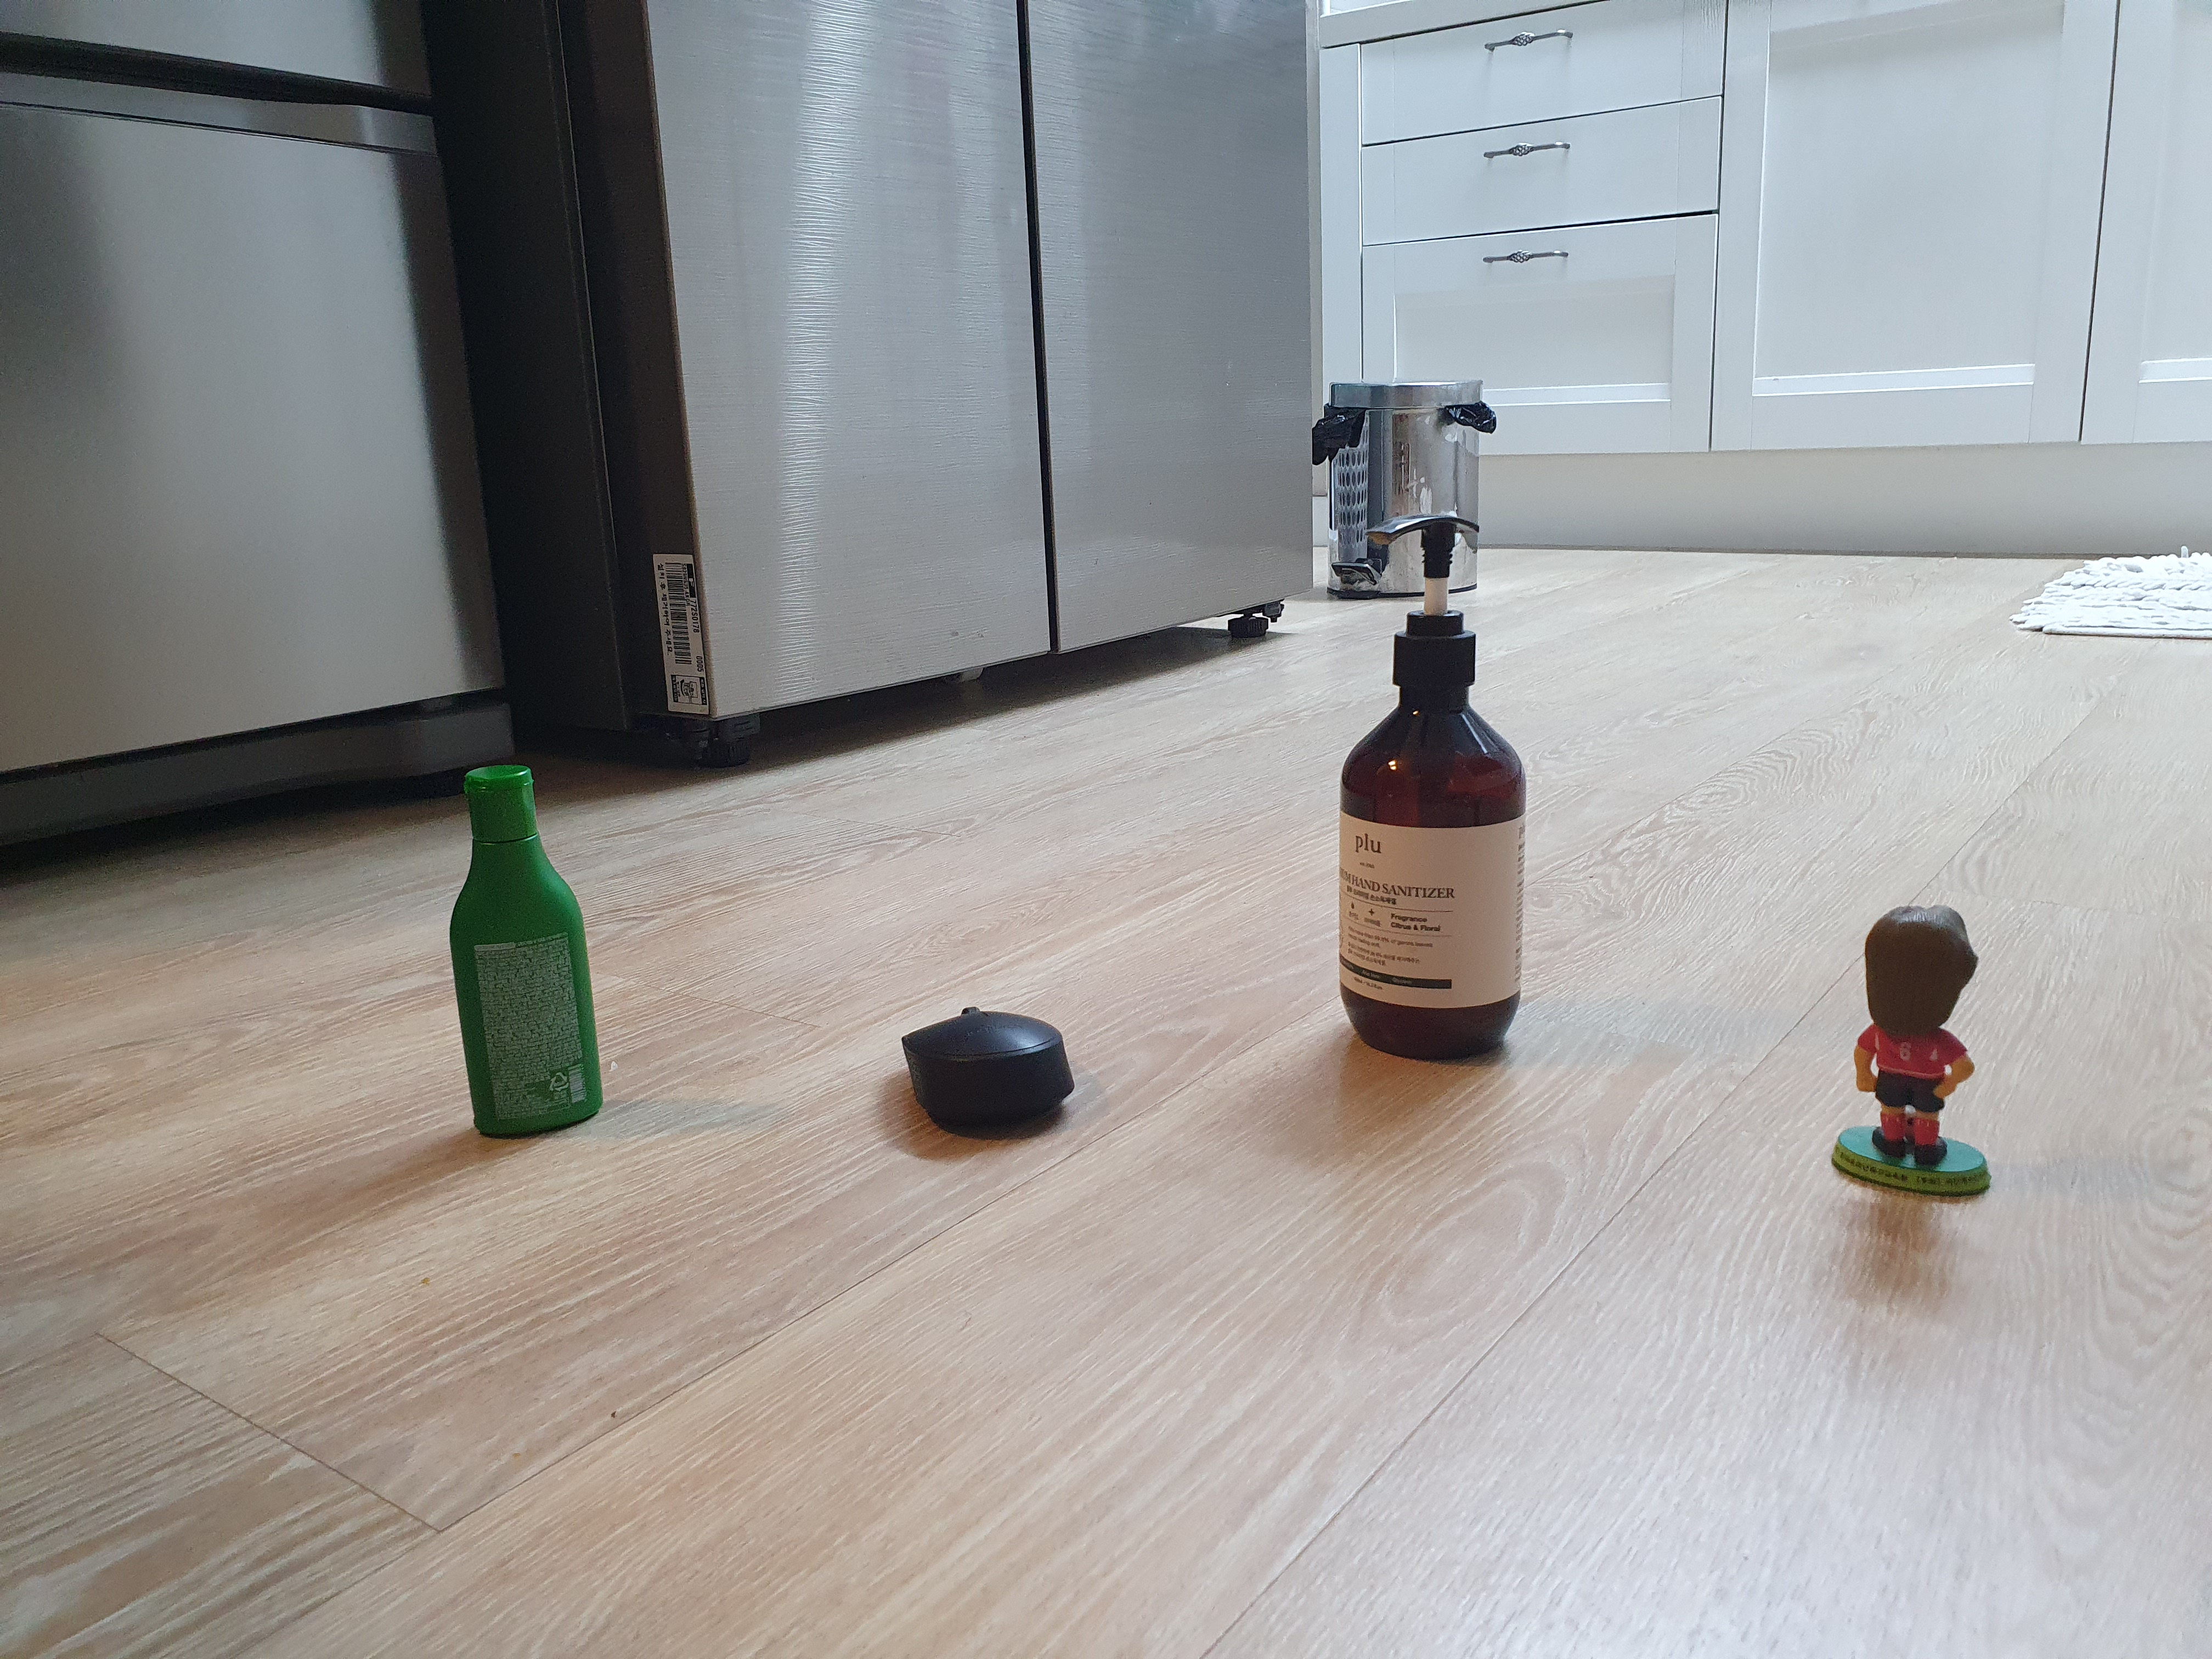bottle: (1303, 483, 1573, 1117)
mouse: (876, 995, 1153, 1176)
shampoo: (371, 763, 681, 1185)
yoo: (1784, 892, 2040, 1236)
